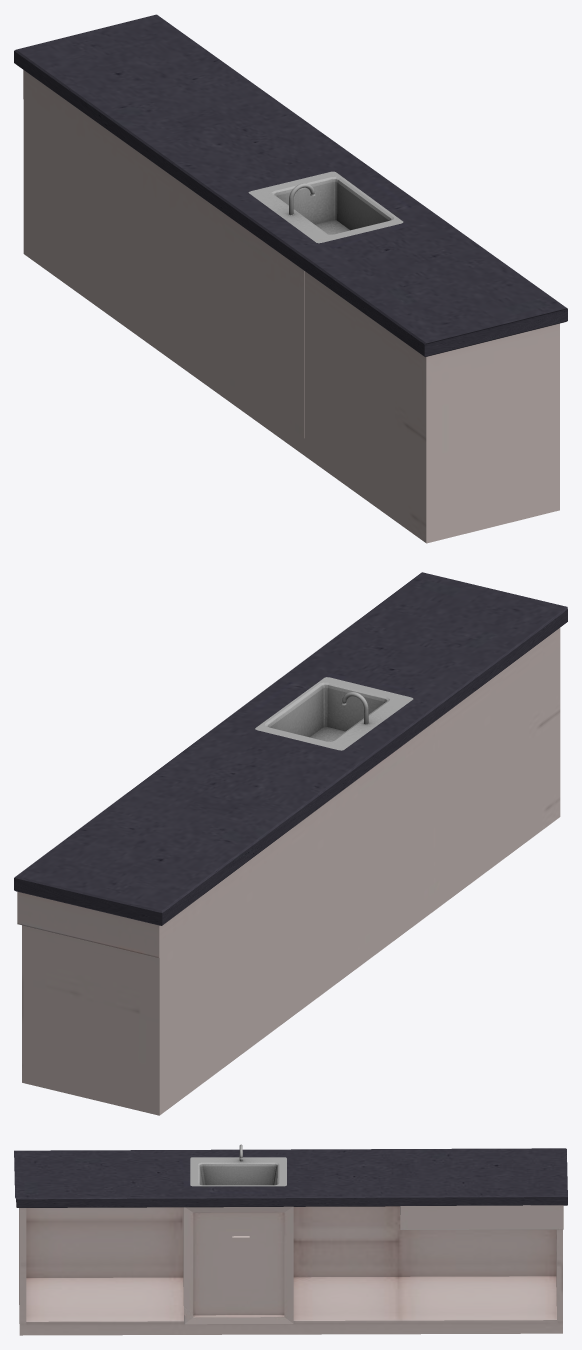
The model's file is kitchen_counter.glb.
The picture shows the model from 3 angles, top to bottom: view 1: azimuth 30°, elevation 25°; view 2: azimuth 150°, elevation 25°; view 3: azimuth 270°, elevation 25°; orthographic projection. The views are drawn at different scales.
Parts seen in each view (by area): view 1: frl_apartment_lower_shelf_01.001, frl_apartment_lower_shelf_01_part_03.001, frl_apartment_sink.001; view 2: frl_apartment_lower_shelf_01.001, frl_apartment_lower_shelf_01_part_03.001, frl_apartment_sink.001; view 3: frl_apartment_lower_shelf_01.001, frl_apartment_lower_shelf_01_part_03.001, frl_apartment_sink.001.
Boxes of the visible parts, x1,y1,x2,y2 form: frl_apartment_lower_shelf_01.001: (14, 14, 567, 543); frl_apartment_lower_shelf_01_part_03.001: (223, 213, 304, 437); frl_apartment_sink.001: (248, 171, 403, 243); frl_apartment_lower_shelf_01.001: (14, 572, 567, 1115); frl_apartment_lower_shelf_01_part_03.001: (358, 718, 439, 949); frl_apartment_sink.001: (255, 677, 413, 750); frl_apartment_lower_shelf_01.001: (14, 1148, 567, 1335); frl_apartment_lower_shelf_01_part_03.001: (183, 1206, 293, 1324); frl_apartment_sink.001: (190, 1144, 286, 1186).
Bounding box in the file's own units: 0.669 × 0.9788 × 3.11.
1 material, 1 textured.
